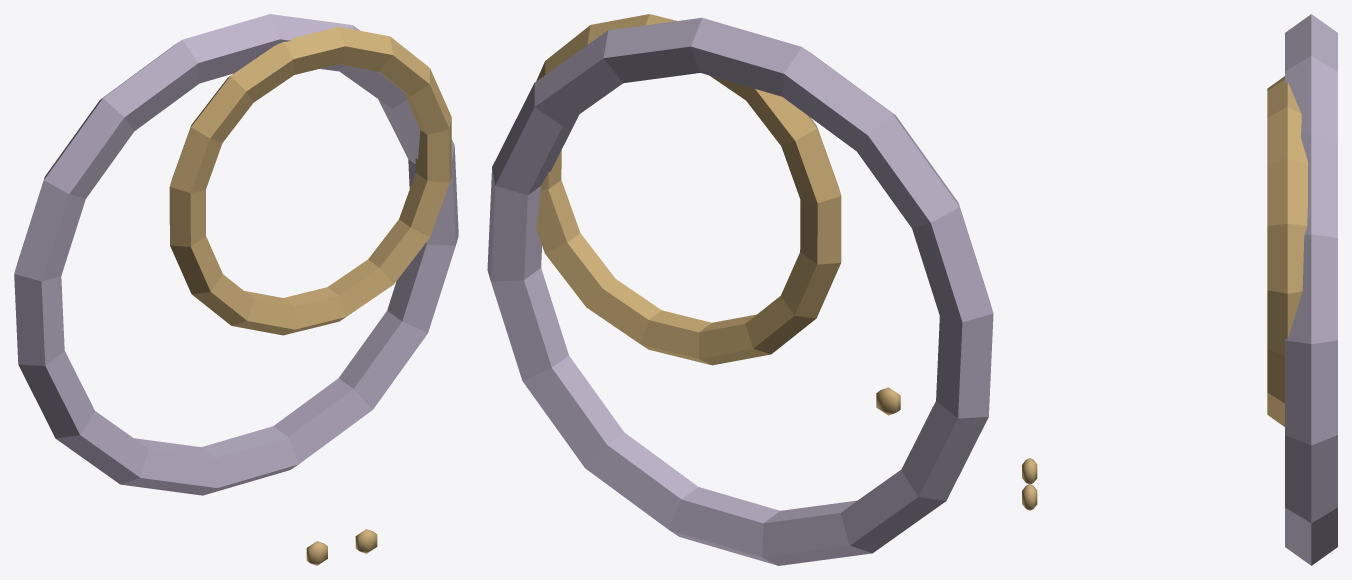
3 renders of one model, left to right at view 1: azimuth 30°, elevation 25°; view 2: azimuth 150°, elevation 25°; view 3: azimuth 270°, elevation 25°, orthographic. The views are drawn at different scales.
Parts seen in each view (by area): view 1: g_s31; view 2: g_s31; view 3: g_s31.
Boxes of the visible parts, x1,y1,x2,y2 form: g_s31: [14, 14, 458, 565]; g_s31: [487, 14, 993, 565]; g_s31: [1022, 14, 1337, 565].
Size of the model in its own units: 0.3159 by 0.3159 by 0.1793.
